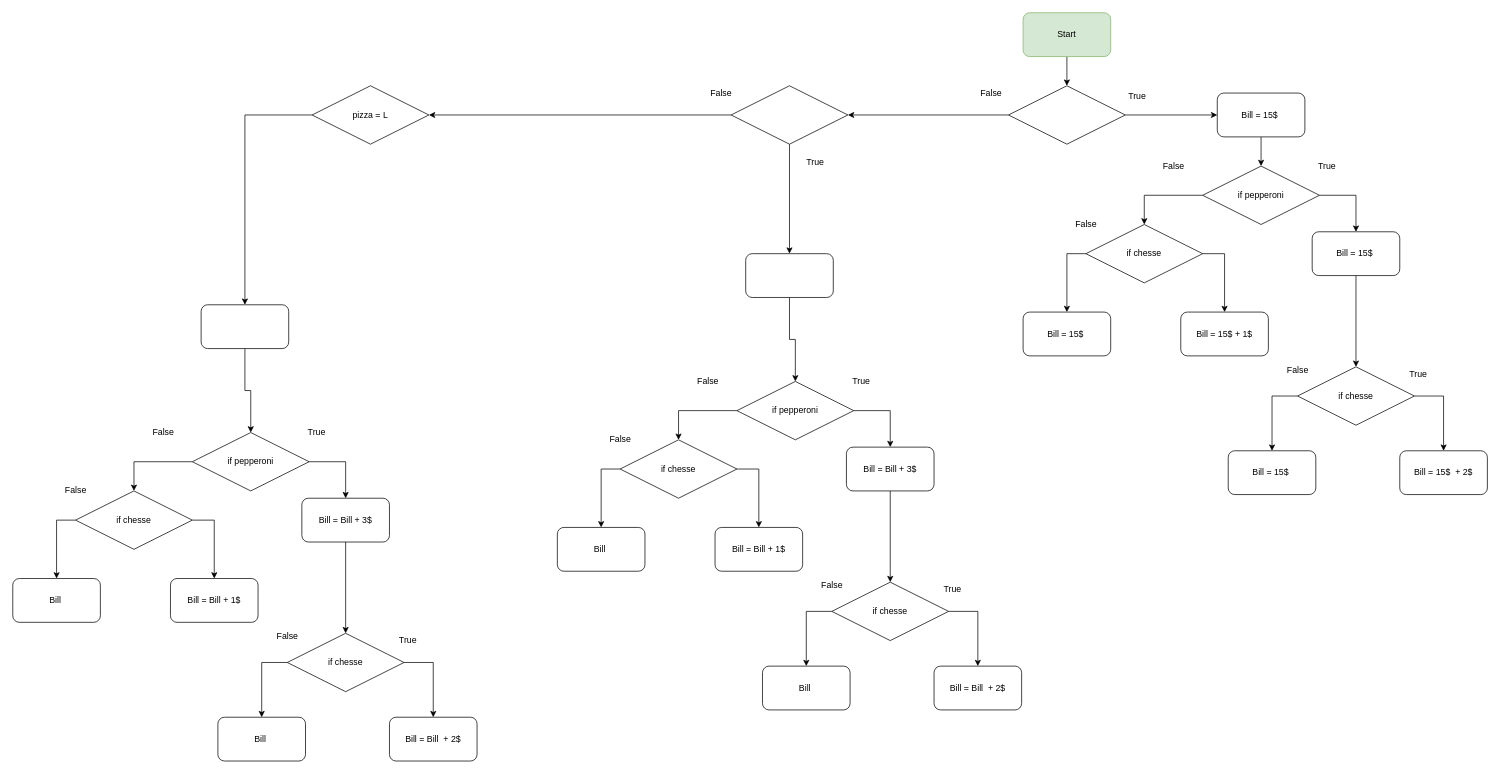
Image size: 1500x774. Some labels were removed from this diagram. Here are the shapes that lost their labels. From the top down, the centre of each, then its label:
At [789,114]: "pizza = M".
At [1066,114]: "pizza = s".
At [789,275]: "Bill = 20$".
At [244,326]: "Bill = 25$".
